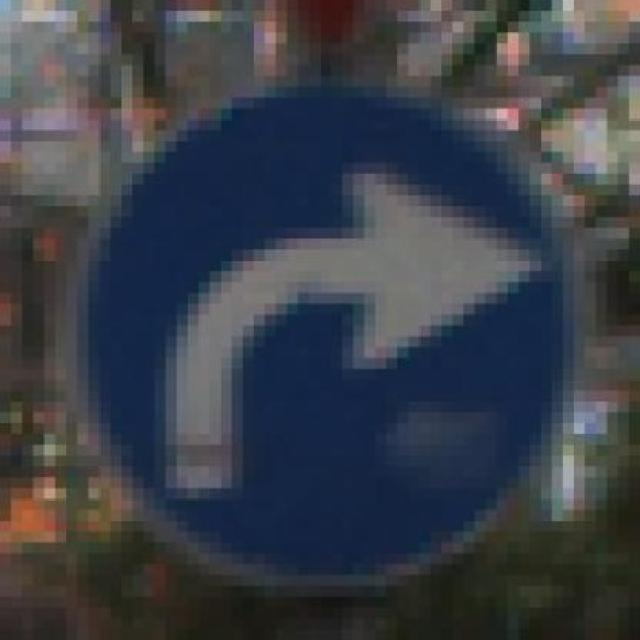Turn right ahead: (66, 75, 585, 597)
